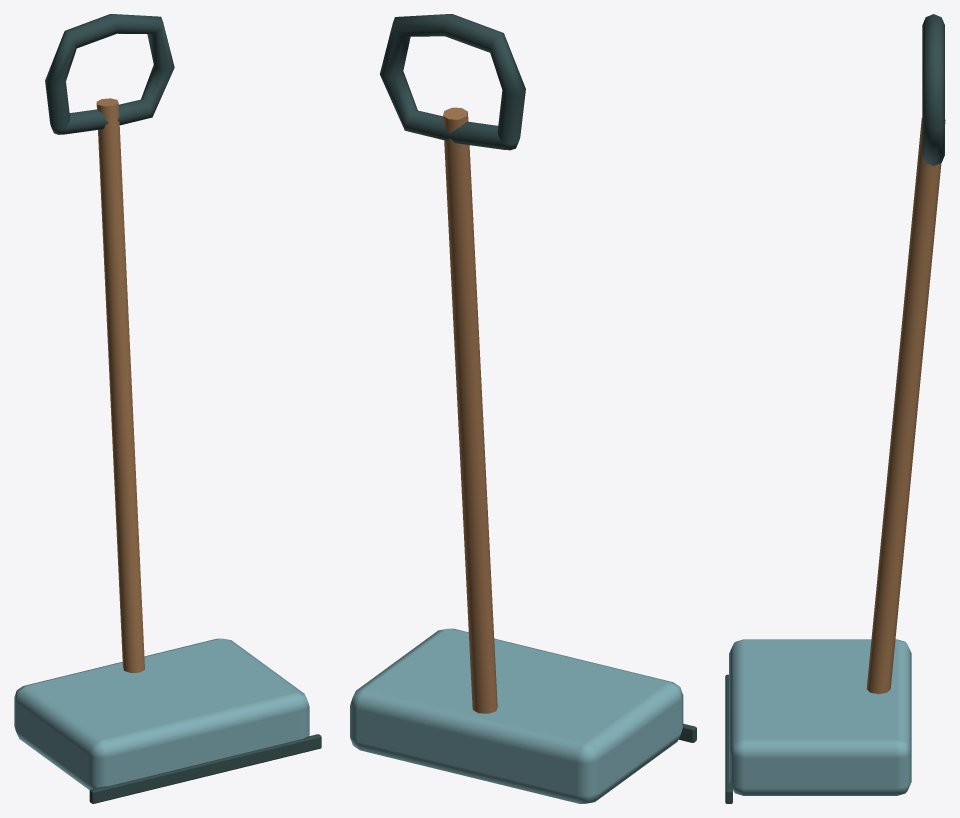
Rendered from almanac-gardens-snow-shovel-6e28a2e2__22091.glb.
3 renders of one model, left to right at view 1: azimuth 30°, elevation 25°; view 2: azimuth 150°, elevation 25°; view 3: azimuth 270°, elevation 25°, orthographic. The views are drawn at different scales.
Parts seen in each view (by area): view 1: snow-shovel-blue, snow-shovel-oak, snow-shovel-iron; view 2: snow-shovel-blue, snow-shovel-oak, snow-shovel-iron; view 3: snow-shovel-blue, snow-shovel-oak, snow-shovel-iron.
Part boxes in pixels (left/top/right/bottom): snow-shovel-blue: left=14, top=638, right=309, bottom=790; snow-shovel-oak: left=96, top=98, right=144, bottom=672; snow-shovel-iron: left=45, top=14, right=321, bottom=803; snow-shovel-blue: left=350, top=628, right=683, bottom=803; snow-shovel-oak: left=443, top=107, right=497, bottom=713; snow-shovel-iron: left=379, top=14, right=696, bottom=742; snow-shovel-blue: left=729, top=639, right=911, bottom=795; snow-shovel-oak: left=866, top=118, right=945, bottom=694; snow-shovel-iron: left=725, top=14, right=944, bottom=803.
Bounding box in the file's own units: 0.44 × 1.26 × 0.35.
